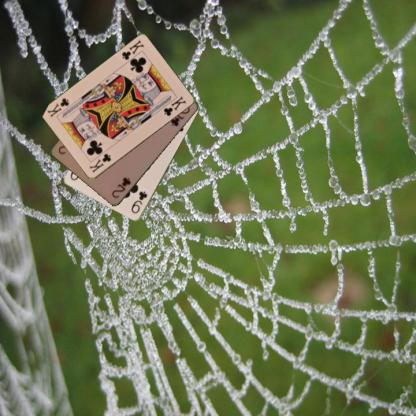2c: (110, 175, 132, 200)
9c: (128, 189, 148, 215)
Kc: (86, 151, 113, 174), (119, 38, 146, 61)
